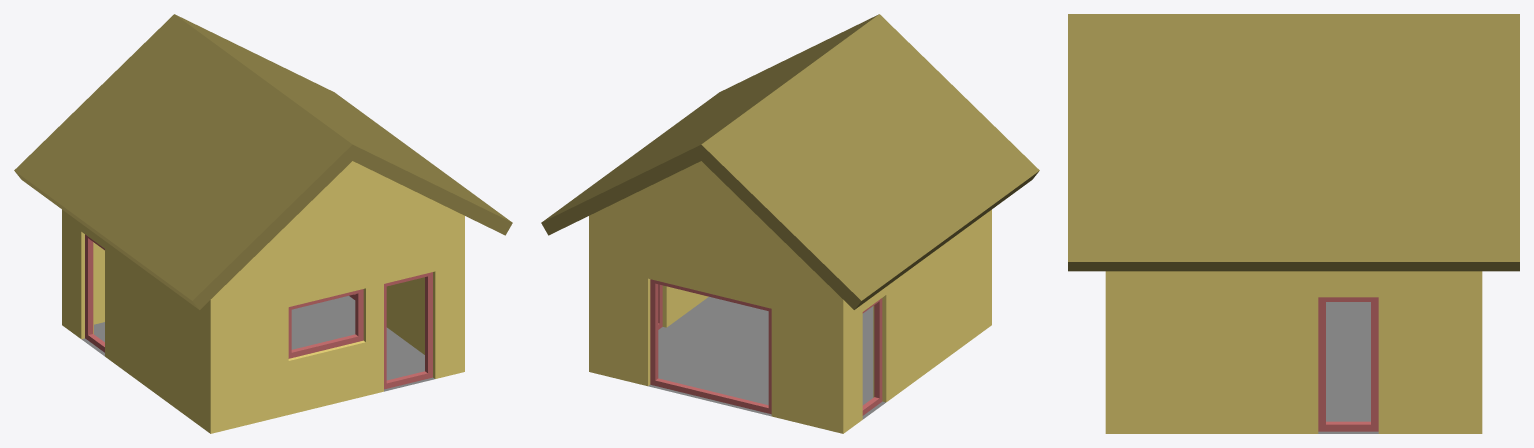
The model's file is result.glb.
3 renders of one model, left to right at view 1: azimuth 30°, elevation 25°; view 2: azimuth 150°, elevation 25°; view 3: azimuth 270°, elevation 25°, orthographic. The views are drawn at different scales.
Parts seen in each view (by area): view 1: 04e39855-f7f5-432a-8c65-dc0b4143d432__undefined (×2), 4e4db595-19a3-40ef-8b8a-9a25837d855d__undefined, 15b72ab5-4fb5-4538-979c-8caf3ba9e994__Plane_6, 71e1921e-79ed-4d26-8e6e-f79cd59925cb__Box, d7915cf9-8b2e-4fa3-8f85-5673c16c8525__Box_3, 8e9d0195-03b2-4887-9ef5-7138007e4b37__Box_12; view 2: 04e39855-f7f5-432a-8c65-dc0b4143d432__undefined (×2), 4e4db595-19a3-40ef-8b8a-9a25837d855d__undefined, 15b72ab5-4fb5-4538-979c-8caf3ba9e994__Plane_6, 0c290054-80eb-4c42-a1b0-34a58025fd71__Box_9, 8e9d0195-03b2-4887-9ef5-7138007e4b37__Box_12; view 3: 04e39855-f7f5-432a-8c65-dc0b4143d432__undefined, 4e4db595-19a3-40ef-8b8a-9a25837d855d__undefined, 15b72ab5-4fb5-4538-979c-8caf3ba9e994__Plane_6, 600c81ac-fc3c-41e6-8a0c-eb3a05faf7d5__Box_15.
Boxes of the visible parts, x1,y1,x2,y2 form: 04e39855-f7f5-432a-8c65-dc0b4143d432__undefined (×2): (14, 14, 512, 309); 4e4db595-19a3-40ef-8b8a-9a25837d855d__undefined: (62, 161, 464, 433); 15b72ab5-4fb5-4538-979c-8caf3ba9e994__Plane_6: (82, 296, 434, 391); 71e1921e-79ed-4d26-8e6e-f79cd59925cb__Box: (384, 272, 432, 389); d7915cf9-8b2e-4fa3-8f85-5673c16c8525__Box_3: (288, 289, 363, 358); 8e9d0195-03b2-4887-9ef5-7138007e4b37__Box_12: (85, 234, 104, 352); 04e39855-f7f5-432a-8c65-dc0b4143d432__undefined (×2): (541, 14, 1039, 309); 4e4db595-19a3-40ef-8b8a-9a25837d855d__undefined: (589, 161, 991, 433); 15b72ab5-4fb5-4538-979c-8caf3ba9e994__Plane_6: (648, 296, 885, 419); 0c290054-80eb-4c42-a1b0-34a58025fd71__Box_9: (650, 279, 771, 414); 8e9d0195-03b2-4887-9ef5-7138007e4b37__Box_12: (862, 298, 882, 415); 04e39855-f7f5-432a-8c65-dc0b4143d432__undefined: (1068, 14, 1519, 271); 4e4db595-19a3-40ef-8b8a-9a25837d855d__undefined: (1105, 271, 1482, 433); 15b72ab5-4fb5-4538-979c-8caf3ba9e994__Plane_6: (1318, 302, 1378, 433); 600c81ac-fc3c-41e6-8a0c-eb3a05faf7d5__Box_15: (1318, 297, 1378, 431).
Size of the model in its own units: 623 by 500 by 600.
